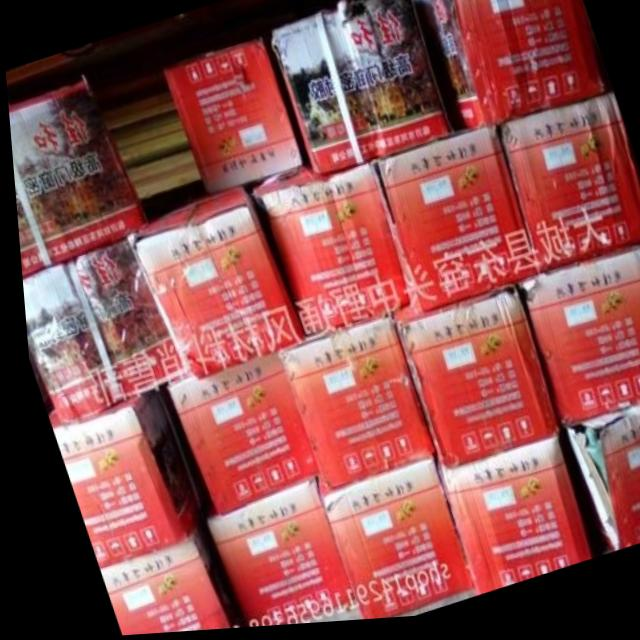box: (123, 187, 297, 383), (270, 0, 448, 179), (383, 291, 551, 475), (18, 239, 183, 424), (370, 132, 534, 318), (247, 160, 406, 340), (42, 388, 201, 566), (408, 0, 607, 139), (274, 321, 431, 493), (7, 77, 142, 276), (493, 104, 640, 278), (163, 355, 310, 521), (432, 442, 581, 599), (316, 468, 464, 624), (511, 256, 640, 432), (194, 480, 345, 630), (163, 41, 303, 193), (90, 522, 238, 636), (559, 410, 640, 561)
